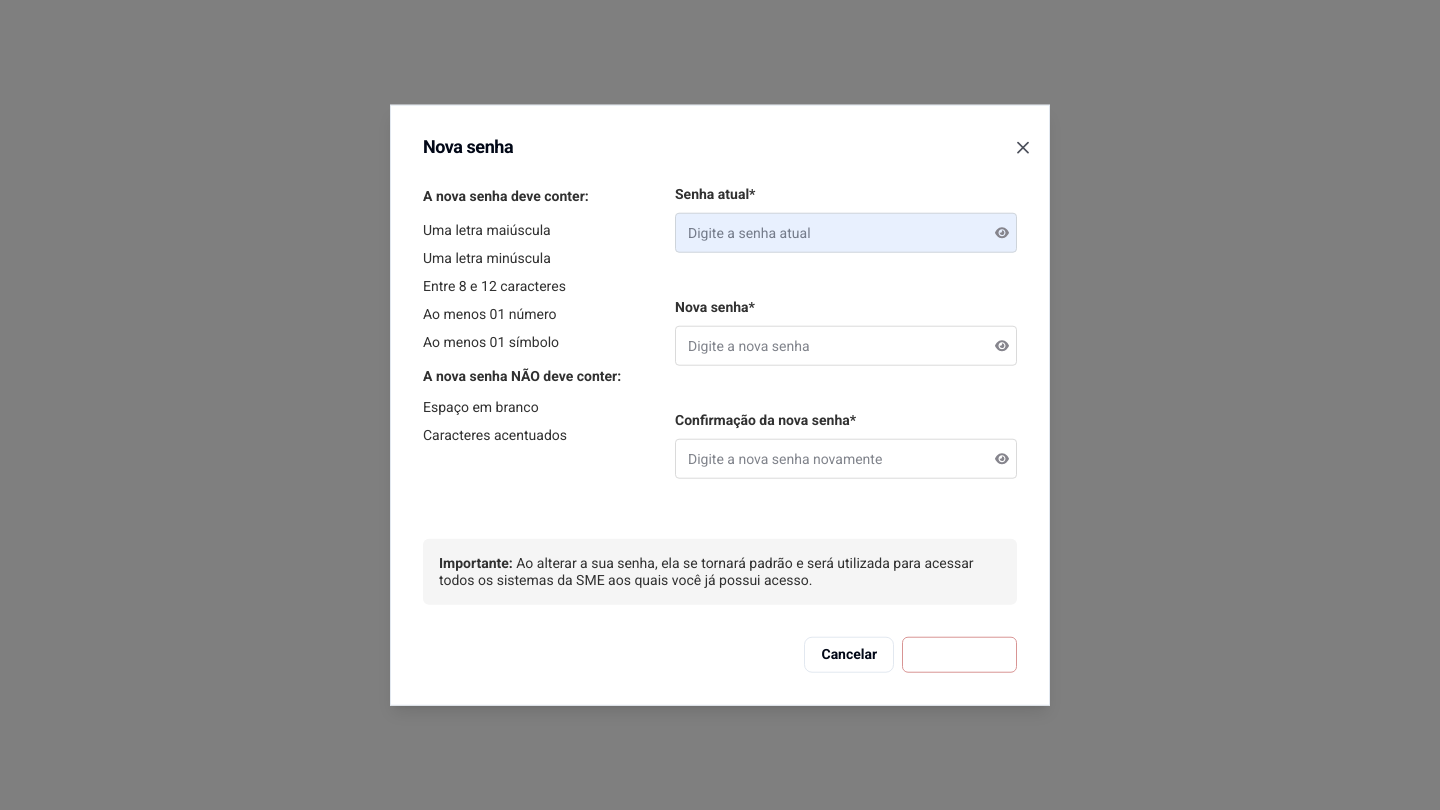
Test: ModalNovaSenha › exibe erro de confirmação quando as senhas não coincidem
Type "Senha@123" into the password field with placeholder "Digite a nova senha" at (846, 346), box top-left (675, 326), bottom-right (1017, 366)
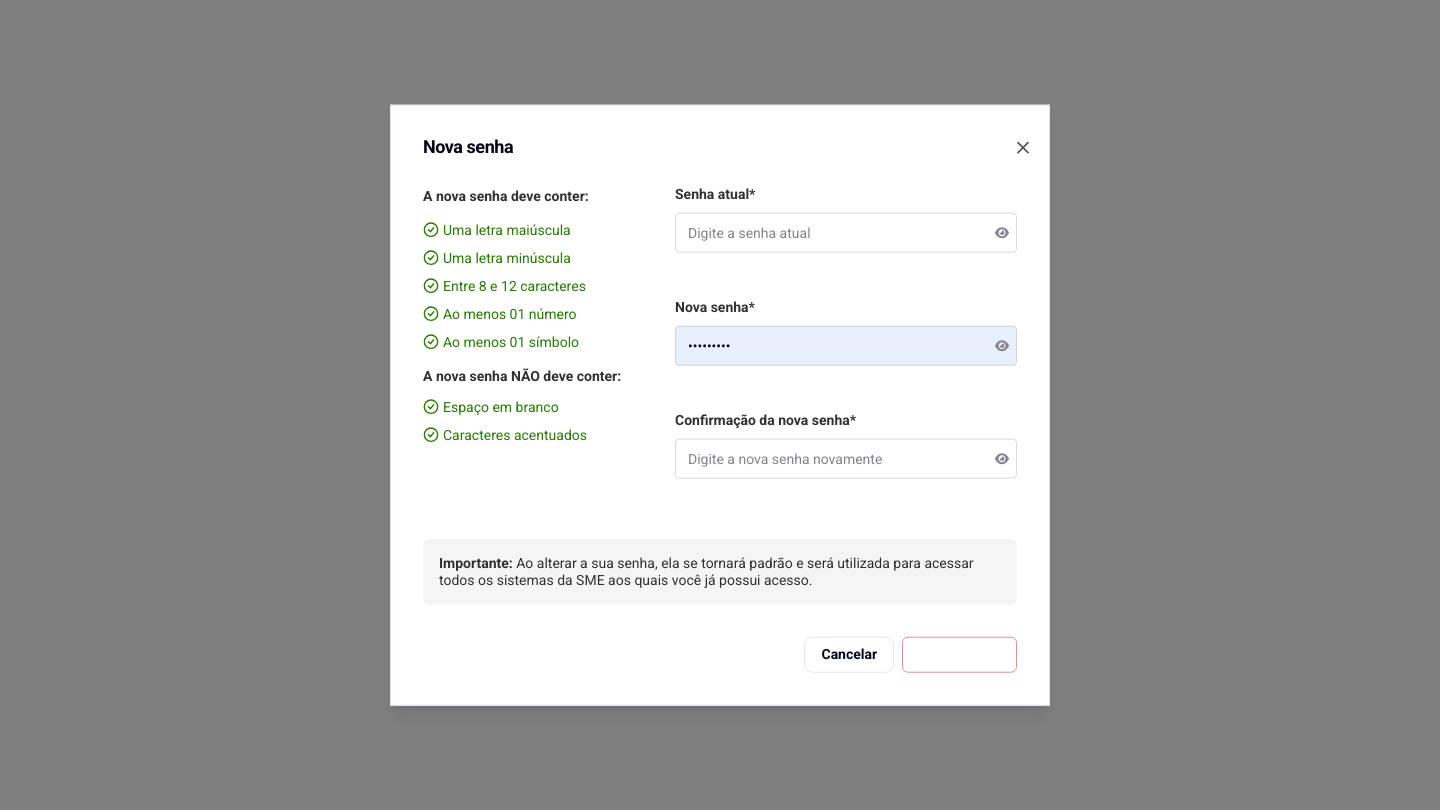
Type "SenhaErrada" into the password field with placeholder "Digite a nova senha novamente" at (846, 459), box top-left (675, 439), bottom-right (1017, 479)
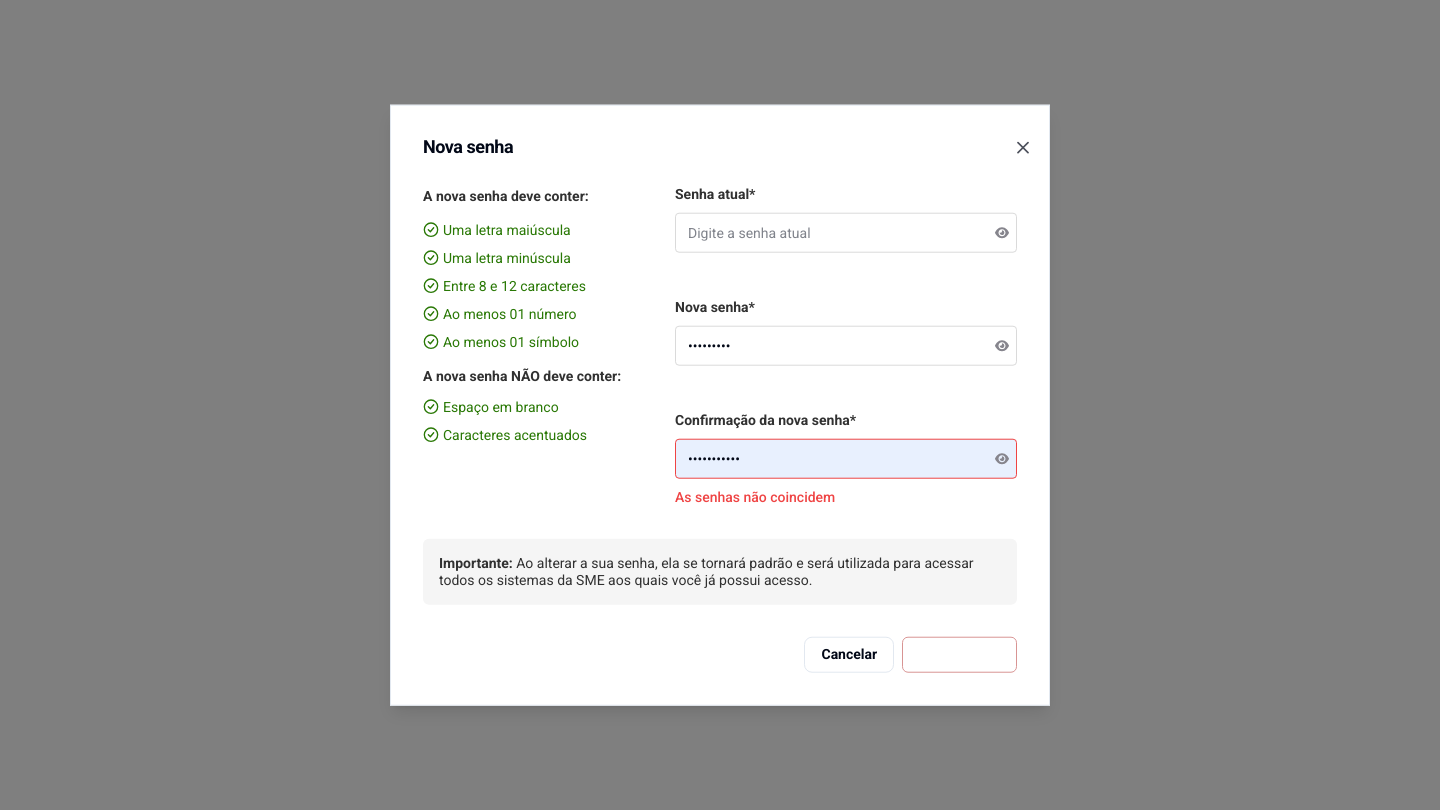
Result: the text "As senhas não coincidem" is shown at top-left (675, 489), bottom-right (835, 505)
